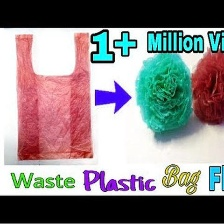plastic_bag: (11, 30, 96, 162)
